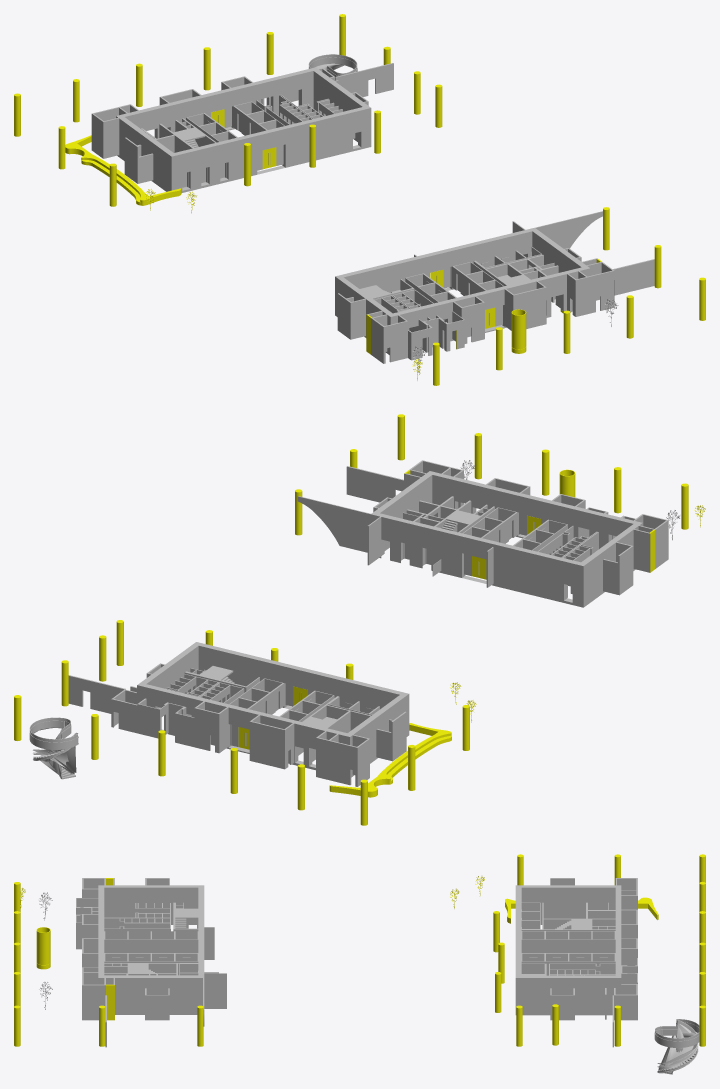
Rendered from sm_hana_building_9f_in.glb.
3 renders of one model, top to bottom at view 1: azimuth 30°, elevation 25°; view 2: azimuth 150°, elevation 25°; view 3: azimuth 270°, elevation 25°, orthographic. The views are drawn at different scales.
Visible parts, largest first — view 1: sm_hana_building_9f_in; view 2: sm_hana_building_9f_in; view 3: sm_hana_building_9f_in.
Boxes of the visible parts, box(x1,y1,x2,y2) form: sm_hana_building_9f_in: box(14, 14, 705, 385); sm_hana_building_9f_in: box(14, 414, 705, 825); sm_hana_building_9f_in: box(14, 854, 705, 1074).
Bounding box in the file's own units: 49.03 × 11.81 × 92.88.
5 materials, 4 textured.
